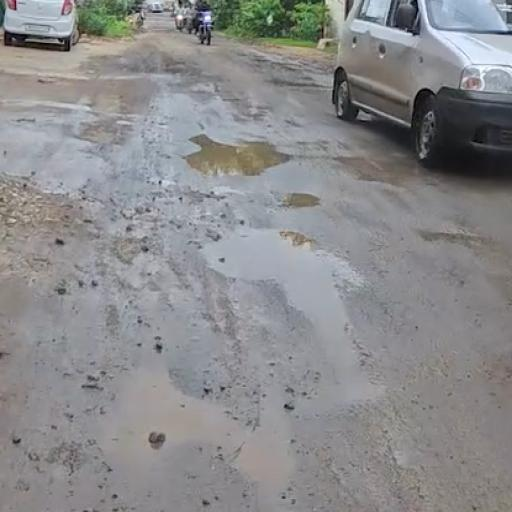pothole: (56, 201, 427, 491), (160, 92, 352, 218)
